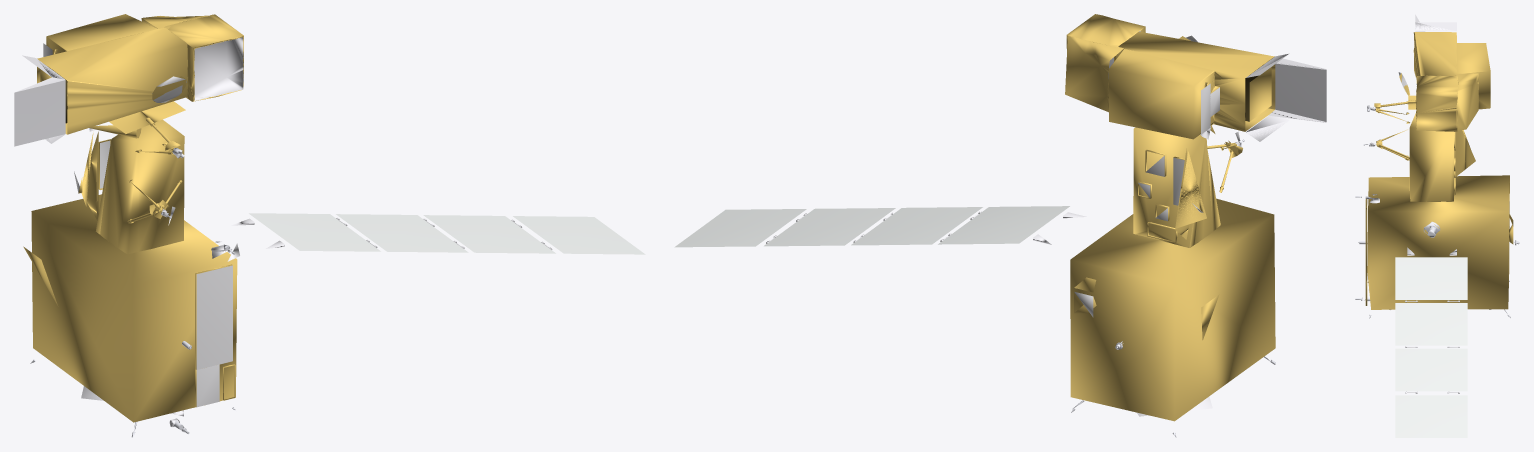
Rendered from landsat-7.glb.
3 views of the same model, side by side, from view 1: azimuth 30°, elevation 25°; view 2: azimuth 150°, elevation 25°; view 3: azimuth 270°, elevation 25° (orthographic). The views are drawn at different scales.
Parts seen in each view (by area): view 1: external hardware, Solar Panel; view 2: external hardware, Solar Panel; view 3: external hardware, Solar Panel.
Boxes of the visible parts, box(x1,y1,x2,y2) form: external hardware: box(14, 14, 243, 437); Solar Panel: box(231, 213, 645, 254); external hardware: box(1065, 14, 1326, 437); Solar Panel: box(674, 206, 1086, 247); external hardware: box(1355, 14, 1519, 318); Solar Panel: box(1395, 221, 1467, 437).
Size of the model in its own units: 1.26 by 0.6835 by 0.4112.
4 materials, 4 textured.
